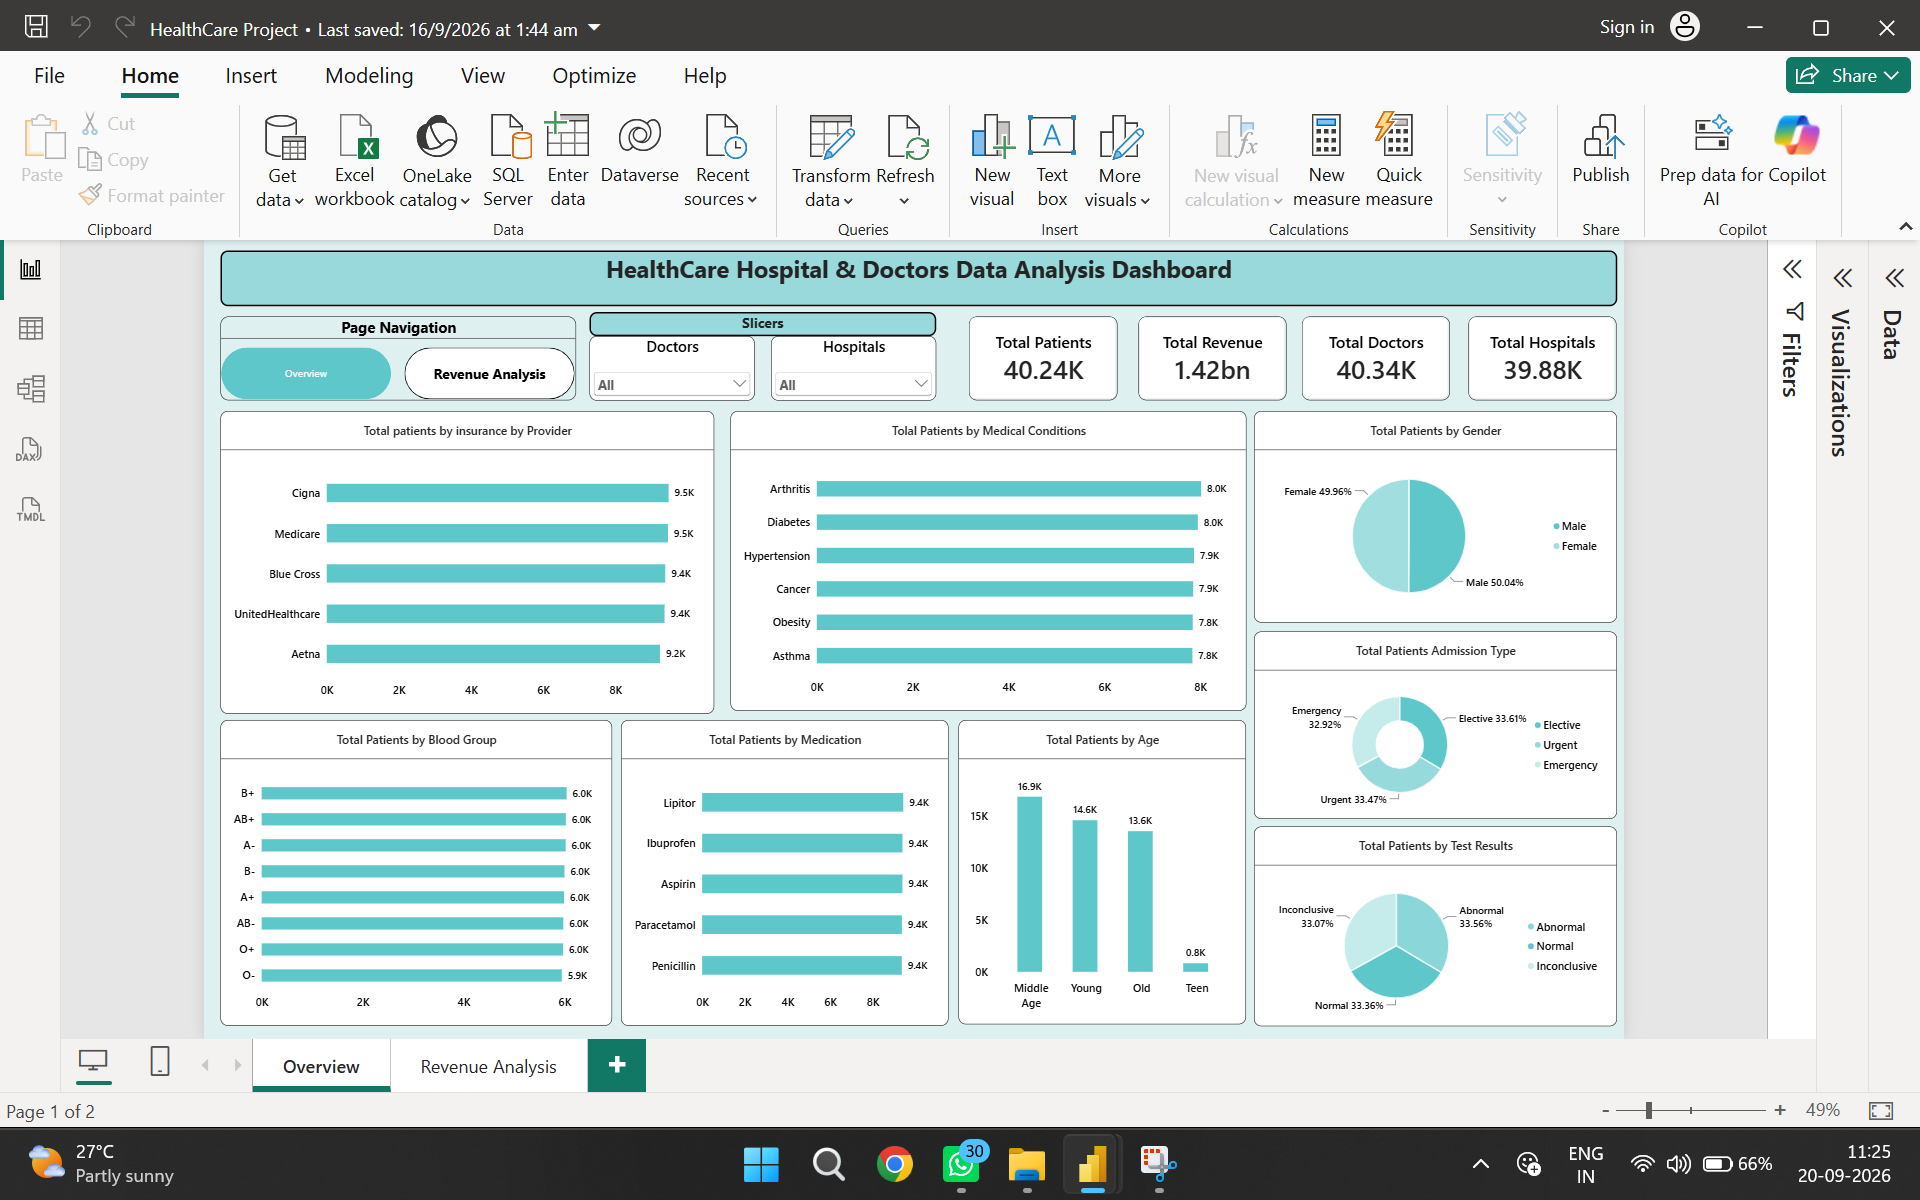

Layout of this report page (visuals, bound fields, positions):
{"tool":"powerbi","page":{"name":"Overview","canvas":[1920,1080],"ordinal":0},"visuals":[{"type":"cardVisual","fields":{"Data":["healthcare_dataset.Total Patients"]},"box":[1034.1,103.4,200.7,113.5],"z":0},{"type":"cardVisual","fields":{"Data":["healthcare_dataset.Total Revenue"]},"box":[1263.2,103.4,199.9,113.6],"z":1000},{"type":"cardVisual","fields":{"Data":["healthcare_dataset.Total Hospitals"]},"box":[1709.2,103.4,199.9,113.6],"z":2000},{"type":"cardVisual","fields":{"Data":["healthcare_dataset.Total Doctors"]},"box":[1484.2,103.4,199.9,113.6],"z":3000},{"type":"textbox","box":[22.3,14.2,1887.7,75],"z":4000},{"type":"barChart","title":"Total Patients by Blood Group","fields":{"Category":["healthcare_dataset.Blood Type"],"Y":["Count(healthcare_dataset.Name)"]},"box":[22.7,649.6,529.2,413.4],"z":5000},{"type":"barChart","title":"Tolal Patients by Medical Conditions","fields":{"Category":["healthcare_dataset.Medical Condition"],"Y":["Count(healthcare_dataset.Name)"]},"box":[711.7,231.1,697.5,405.5],"z":6000},{"type":"barChart","title":"Total patients by insurance by Provider","fields":{"Category":["healthcare_dataset.Insurance Provider"],"Y":["Count(healthcare_dataset.Name)"]},"box":[22.3,231.1,667.1,409.6],"z":7000},{"type":"barChart","title":"Total Patients by Medication","fields":{"Category":["healthcare_dataset.Medication"],"Y":["Count(healthcare_dataset.Name)"]},"box":[563.3,649.6,442.9,413.4],"z":8000},{"type":"pieChart","title":"Total Patients by Gender","fields":{"Category":["healthcare_dataset.Gender"],"Y":["CountNonNull(healthcare_dataset.Gender)"]},"box":[1419.3,231.1,490.7,285.9],"z":9000},{"type":"donutChart","title":"Total Patients Admission Type","fields":{"Category":["healthcare_dataset.Admission Type"],"Y":["CountNonNull(healthcare_dataset.Admission Type)"]},"box":[1419.3,529.2,490.7,253.4],"z":10000},{"type":"pieChart","title":"Total Patients by Test Results","fields":{"Category":["healthcare_dataset.Test Results"],"Y":["CountNonNull(healthcare_dataset.Test Results)"]},"box":[1419.6,792.7,490.6,270.3],"z":11000},{"type":"columnChart","title":"Total Patients by Age","fields":{"Category":["healthcare_dataset.Age Group"],"Y":["Count(healthcare_dataset.Name)"]},"box":[1019.8,649.6,388.4,411.1],"z":12000},{"type":"pageNavigator","title":"Page Navigation","box":[22.3,103.4,480.5,113.5],"z":13000},{"type":"slicer","title":"Doctors","fields":{"Values":["healthcare_dataset.Doctor"]},"box":[521.1,129.8,223,87.2],"z":13001},{"type":"slicer","title":"Hospitals","fields":{"Values":["healthcare_dataset.Hospital"]},"box":[766.4,129.8,223,87.2],"z":13002},{"type":"textbox","box":[521.1,97.3,468.4,32.4],"z":13003}]}

Visuals, with their boxes on the page's 1920x1080 design canvas (x1, y1, x2, y2). These are canvas units, not pixel positions in the 1920x1200 screenshot, which may show the page scaled, cropped or inside an application window:
cardVisual - healthcare_dataset.Total Patients: 1034 103 1235 217
cardVisual - healthcare_dataset.Total Revenue: 1263 103 1463 217
cardVisual - healthcare_dataset.Total Hospitals: 1709 103 1909 217
cardVisual - healthcare_dataset.Total Doctors: 1484 103 1684 217
textbox: 22 14 1910 89
"Total Patients by Blood Group" barChart: 23 650 552 1063
"Tolal Patients by Medical Conditions" barChart: 712 231 1409 637
"Total patients by insurance by Provider" barChart: 22 231 689 641
"Total Patients by Medication" barChart: 563 650 1006 1063
"Total Patients by Gender" pieChart: 1419 231 1910 517
"Total Patients Admission Type" donutChart: 1419 529 1910 783
"Total Patients by Test Results" pieChart: 1420 793 1910 1063
"Total Patients by Age" columnChart: 1020 650 1408 1061
"Page Navigation" pageNavigator: 22 103 503 217
"Doctors" slicer: 521 130 744 217
"Hospitals" slicer: 766 130 989 217
textbox: 521 97 990 130
